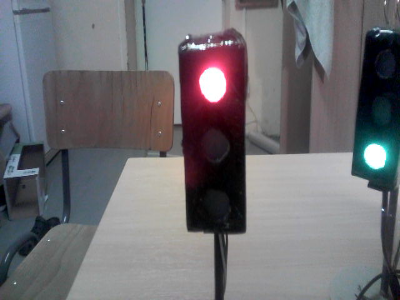trafficlight_green: (359, 33, 400, 179)
trafficlight_red: (183, 42, 248, 234)
